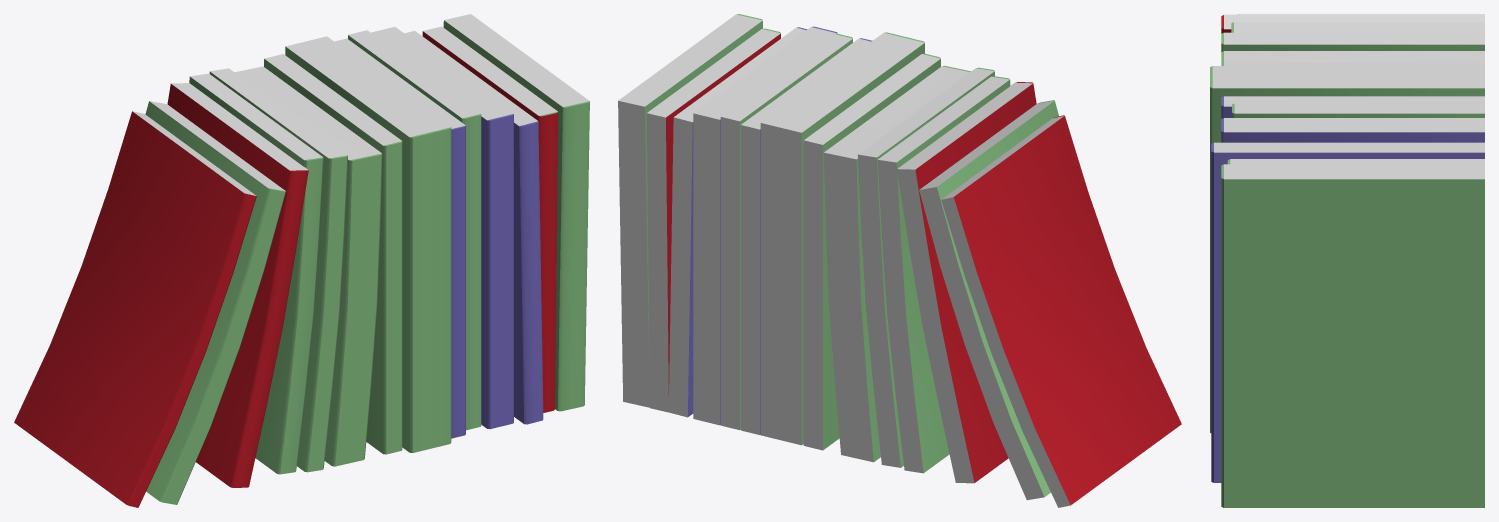
Rendered from livingRoomBook01.FBX.
The picture shows the model from 3 angles, left to right: view 1: azimuth 30°, elevation 25°; view 2: azimuth 150°, elevation 25°; view 3: azimuth 270°, elevation 25°; orthographic projection. The views are drawn at different scales.
Parts seen in each view (by area): view 1: livingRoomBook01; view 2: livingRoomBook01; view 3: livingRoomBook01.
Boxes of the visible parts, x1,y1,x2,y2 form: livingRoomBook01: (14, 14, 589, 507); livingRoomBook01: (618, 14, 1181, 507); livingRoomBook01: (1210, 14, 1484, 507).
Size of the model in its own units: 102 by 67.54 by 48.68.
